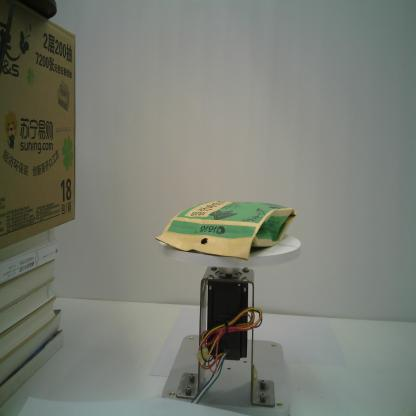Dried Food: (154, 196, 300, 262)
